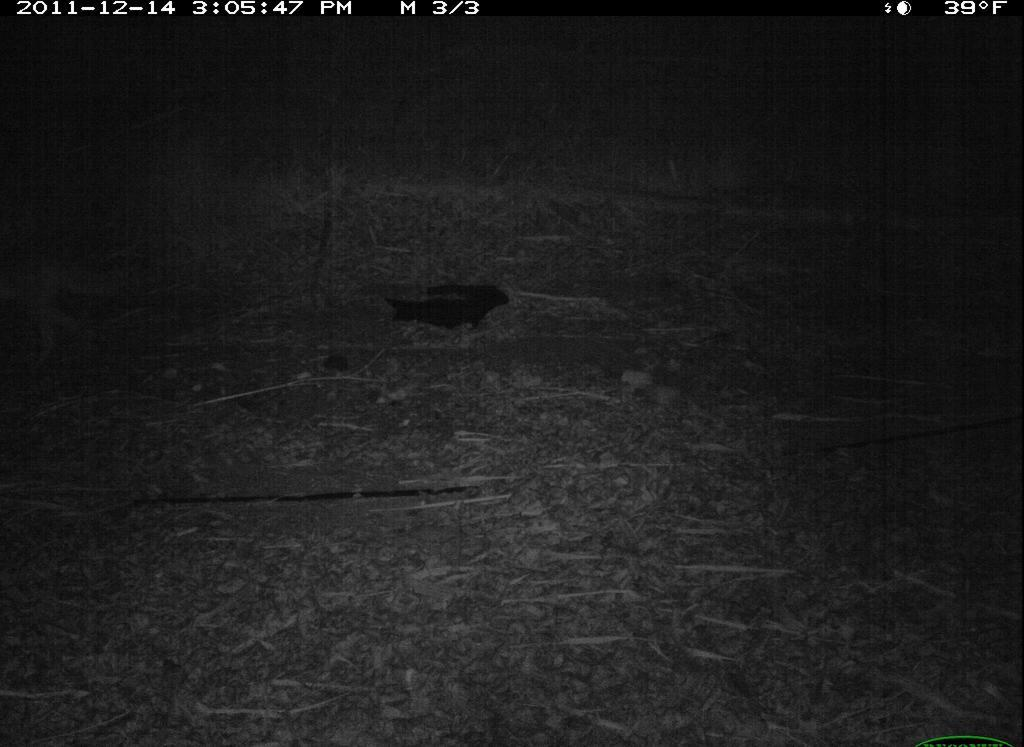coyote: (9, 240, 118, 376)
